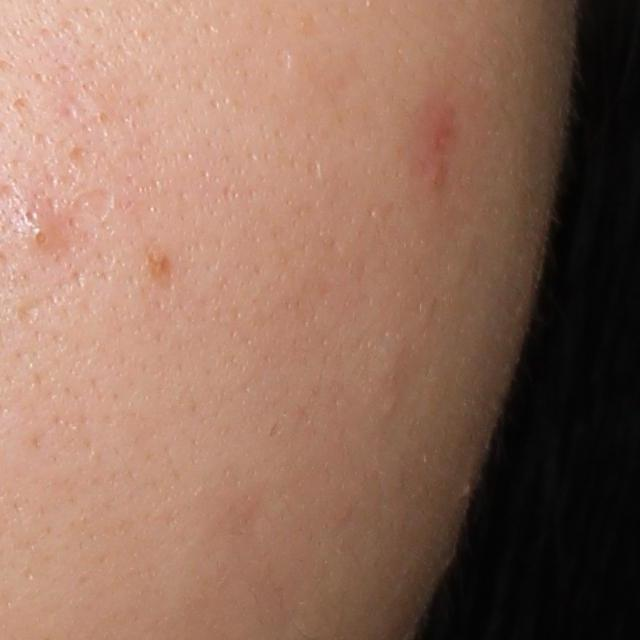atrophic_scar: (71, 188, 113, 222), (274, 46, 292, 72)
comedo: (22, 215, 68, 262), (379, 391, 401, 419)
papule: (412, 104, 457, 203)
